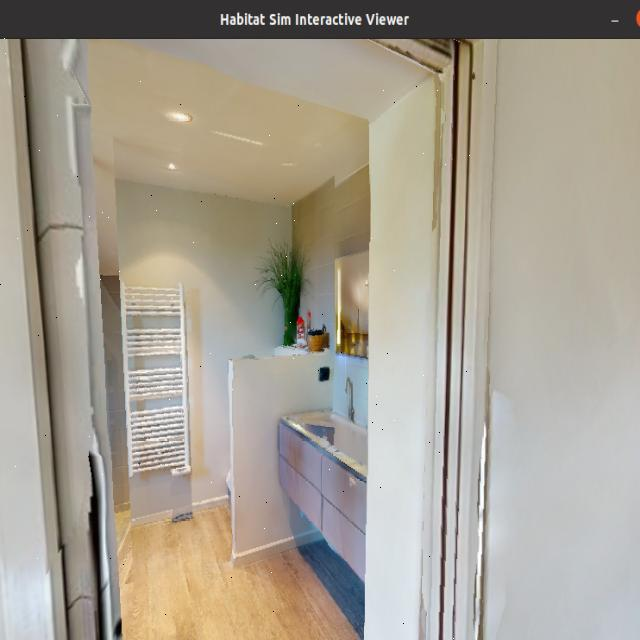door-frame: (0, 34, 489, 640)
sink: (294, 364, 389, 511)
